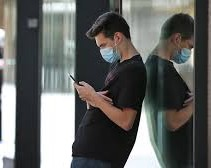with_mask: (88, 19, 135, 64), (163, 18, 197, 64)
